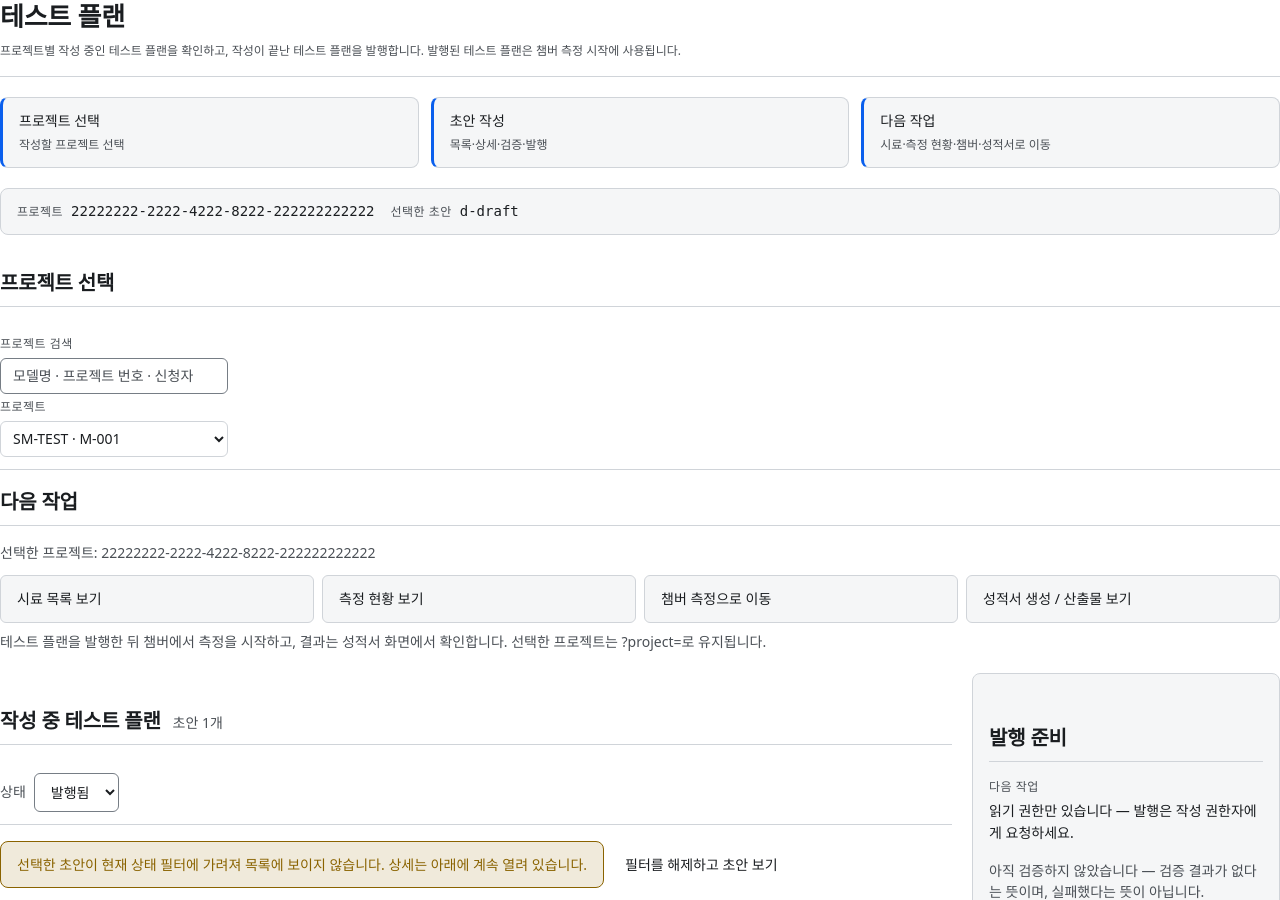
Test: TestPlansRoute › reveals the hidden draft by clearing the filter, preserving project + draft (UX Slice 2)
Expected: the element with test id "test-plans-hidden-selection" is shown, x1=0 y1=841 x2=791 y2=888
Step 1. Click the button with test id "test-plans-hidden-selection-clear" → (701, 865), box x1=612 y1=847 x2=791 y2=883
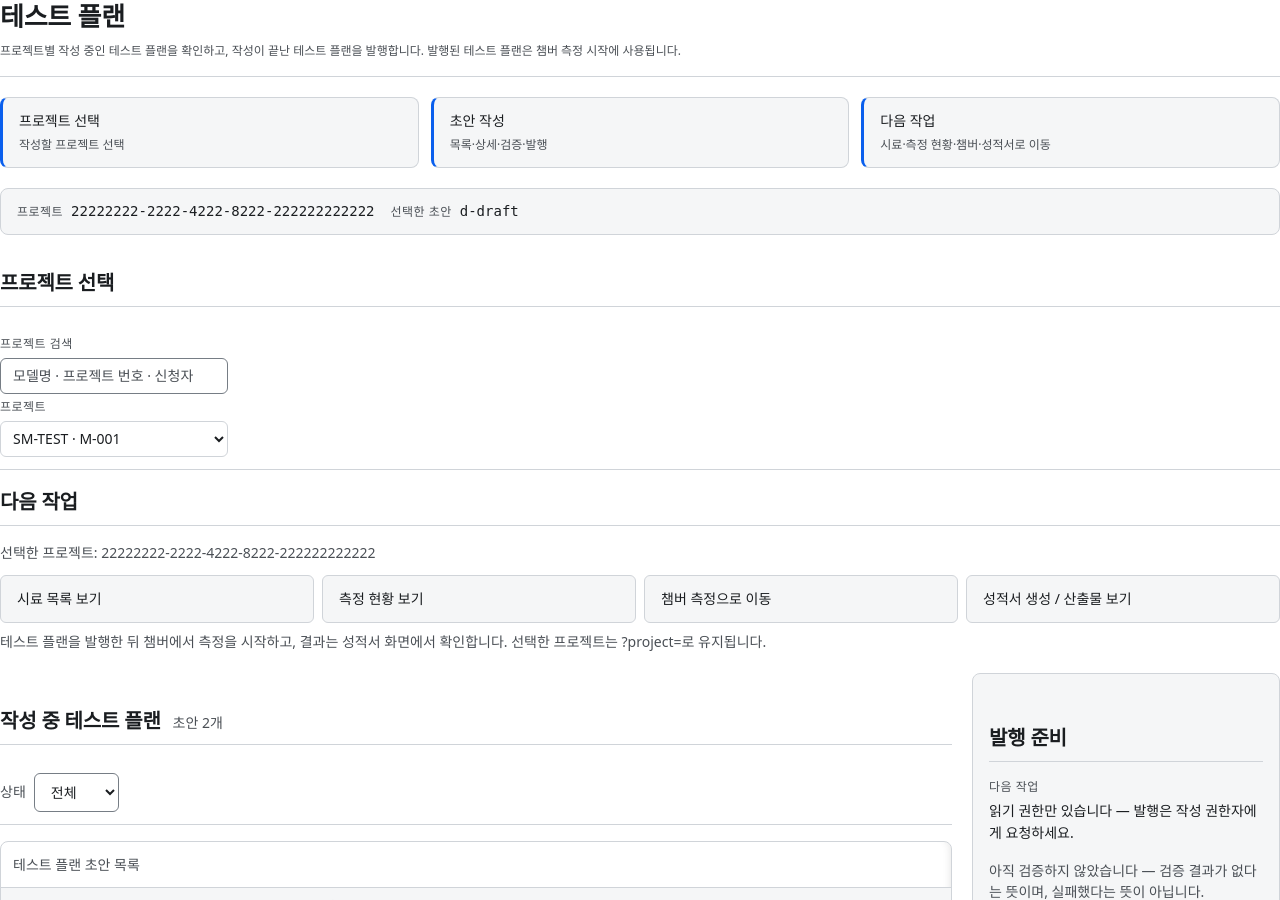
Expected: the text with test id "test-plans-context-project" reads "22222222-2222-4222-8222-222222222222", x1=71 y1=203 x2=374 y2=219
Expected: the element with test id "test-plans-hidden-selection" is gone
Expected: the dropdown with test id "test-plans-status-filter" shows "전체", x1=34 y1=773 x2=119 y2=812
